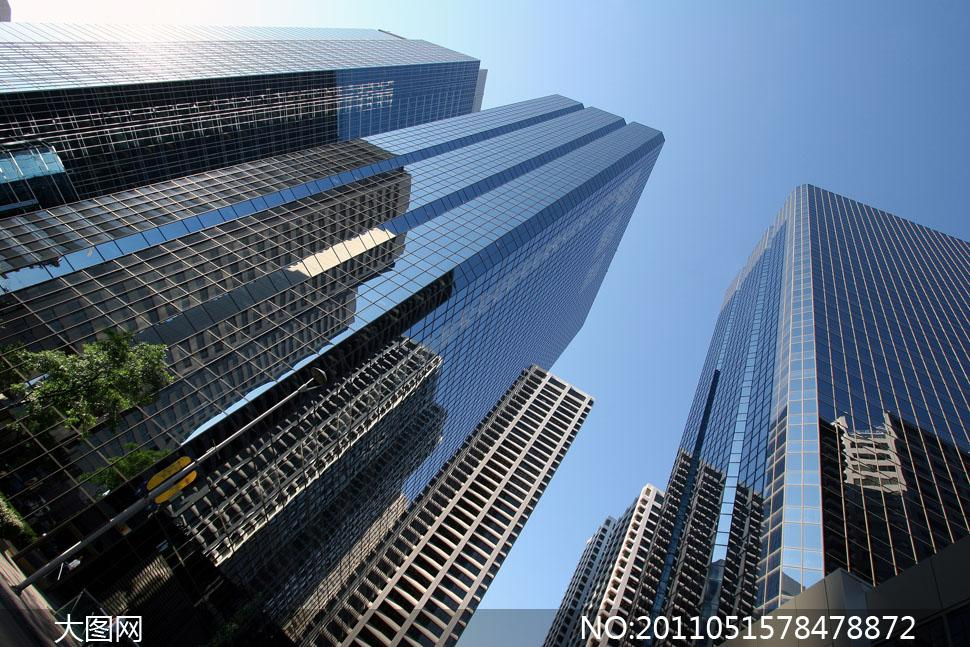buildings: (4, 114, 646, 630), (642, 207, 959, 604), (281, 357, 595, 638), (7, 51, 469, 237)
